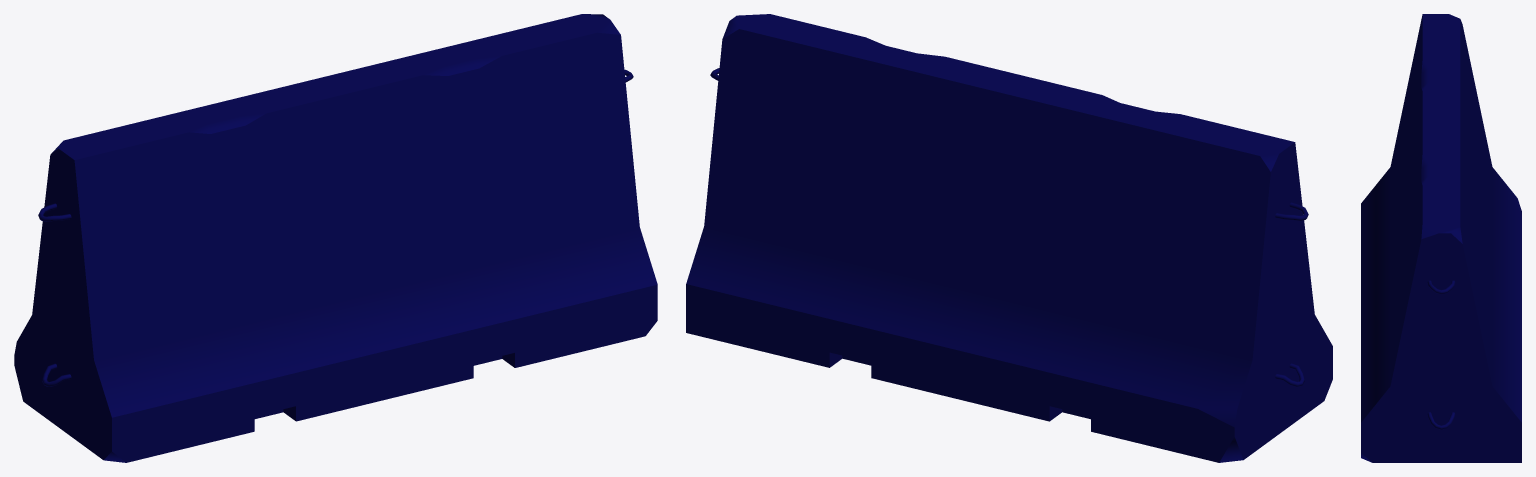
The model's file is SM_RoadBlock01.fbx.
The picture shows the model from 3 angles, left to right: view 1: azimuth 30°, elevation 25°; view 2: azimuth 150°, elevation 25°; view 3: azimuth 270°, elevation 25°; orthographic projection. The views are drawn at different scales.
Parts seen in each view (by area): view 1: RoadBlock01; view 2: RoadBlock01; view 3: RoadBlock01.
Boxes of the visible parts, x1,y1,x2,y2 form: RoadBlock01: (14, 14, 657, 462); RoadBlock01: (686, 14, 1332, 462); RoadBlock01: (1361, 14, 1521, 462).
Size of the model in its own units: 189 by 84.96 by 53.96.
